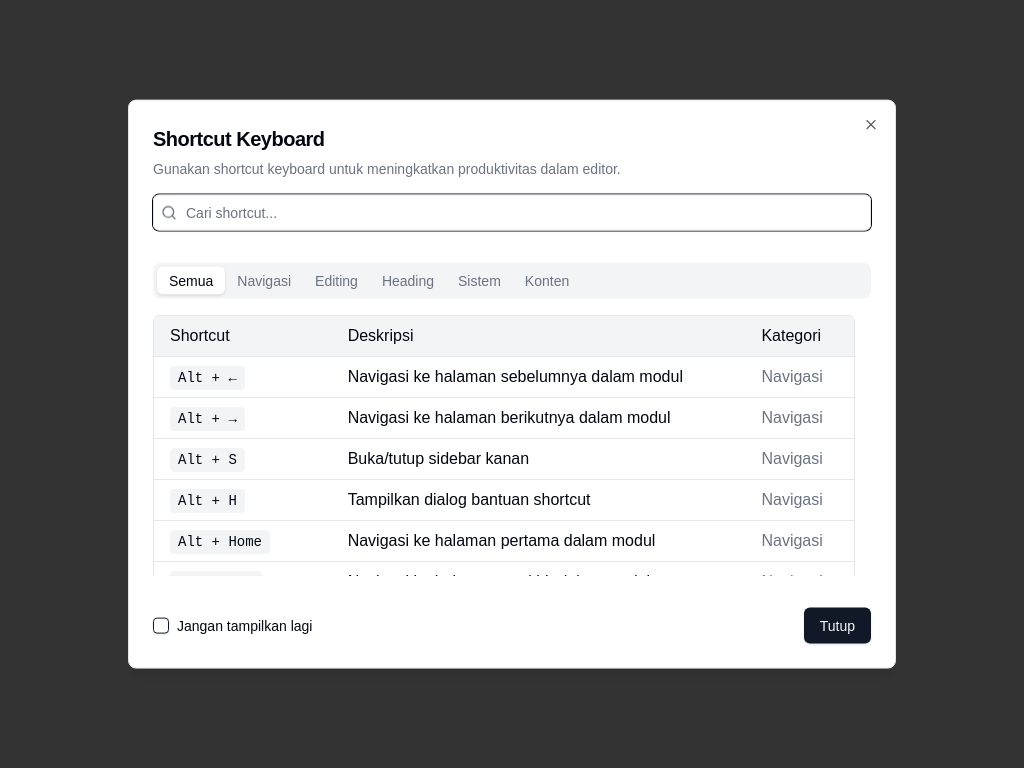
ShortcutHelp › filters shortcuts based on category tab
This screenshot has width=1024, height=768.
// Pilih tab navigasi
Click the tab "Navigasi" at (264, 281), box x1=225 y1=267 x2=303 y2=295
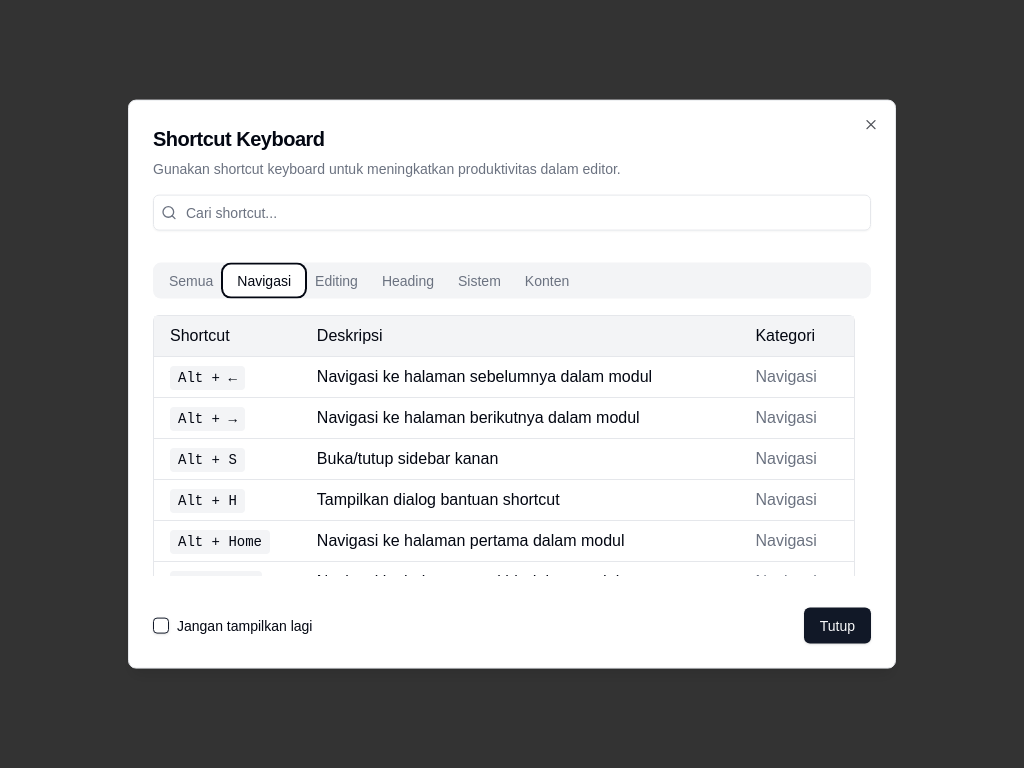
Expected: the text "Navigasi ke halaman sebelumnya dalam modul" is shown, x1=309 y1=356 x2=747 y2=397
// Pilih tab editing
Click the tab "Editing" at (336, 281), box x1=303 y1=267 x2=370 y2=295
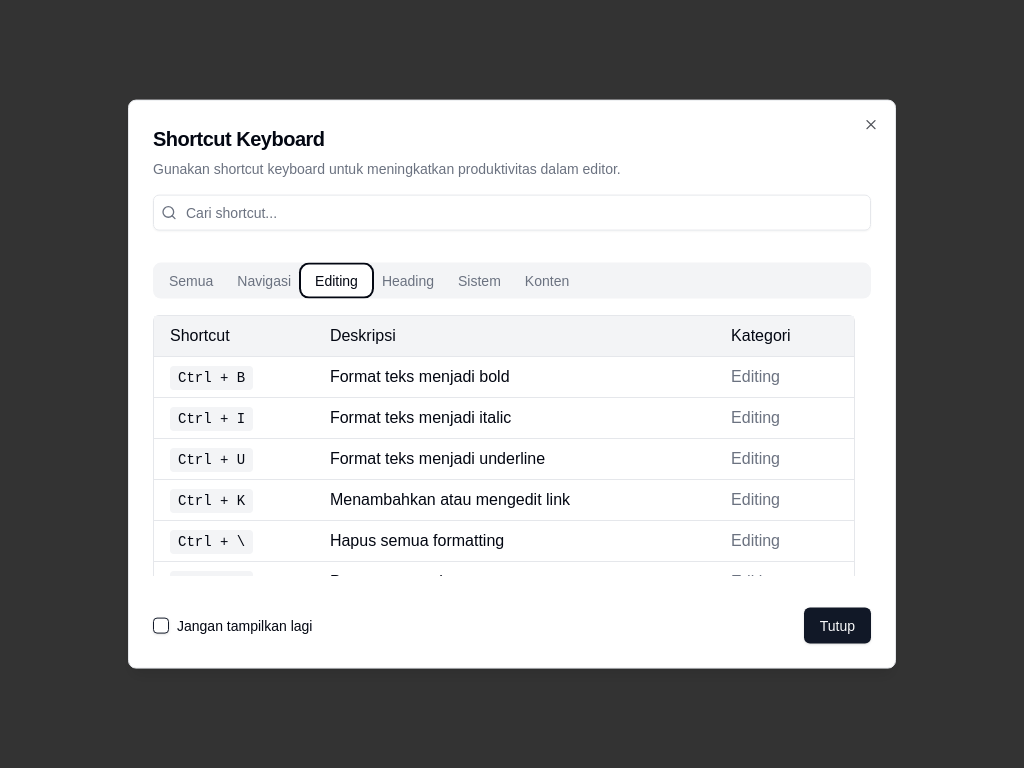
Result: the text "Format teks menjadi bold" is shown at x1=322 y1=356 x2=723 y2=397
